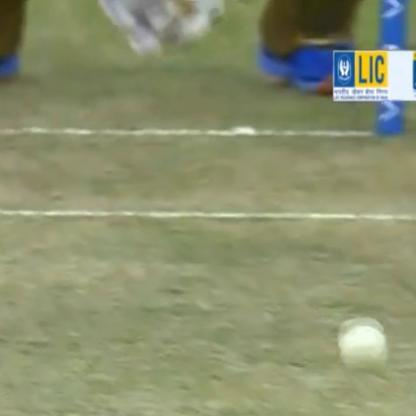ball: (330, 313, 384, 348), (346, 341, 386, 387)
